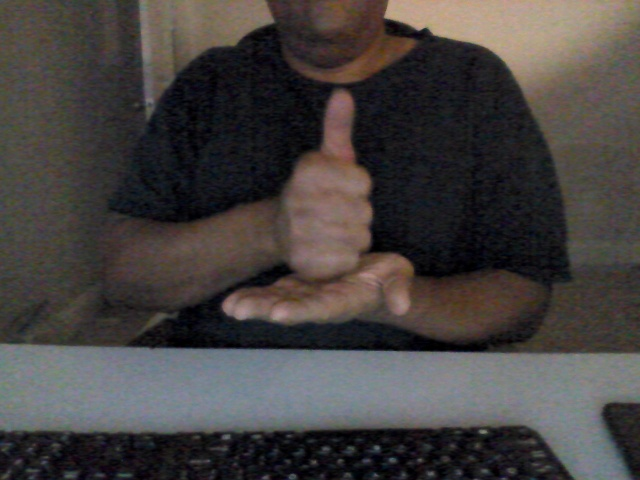help: (222, 87, 416, 324)
